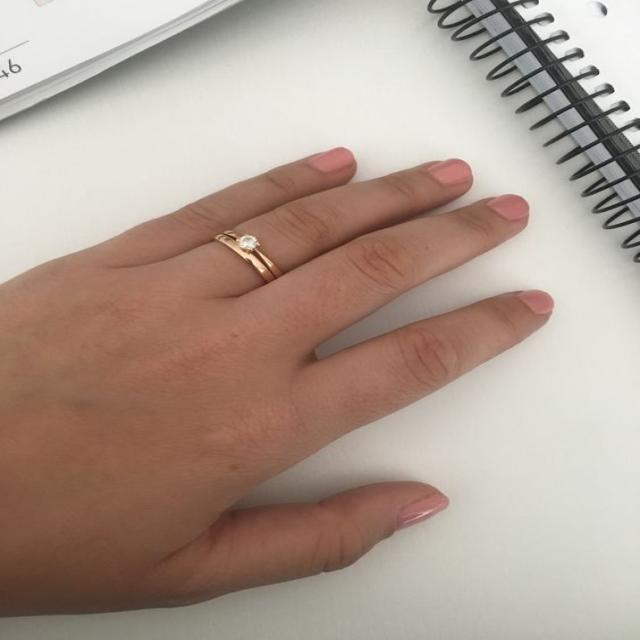Fingernail: (397, 494, 450, 530), (429, 158, 469, 186), (310, 147, 353, 173), (488, 194, 529, 220), (519, 289, 554, 314)
